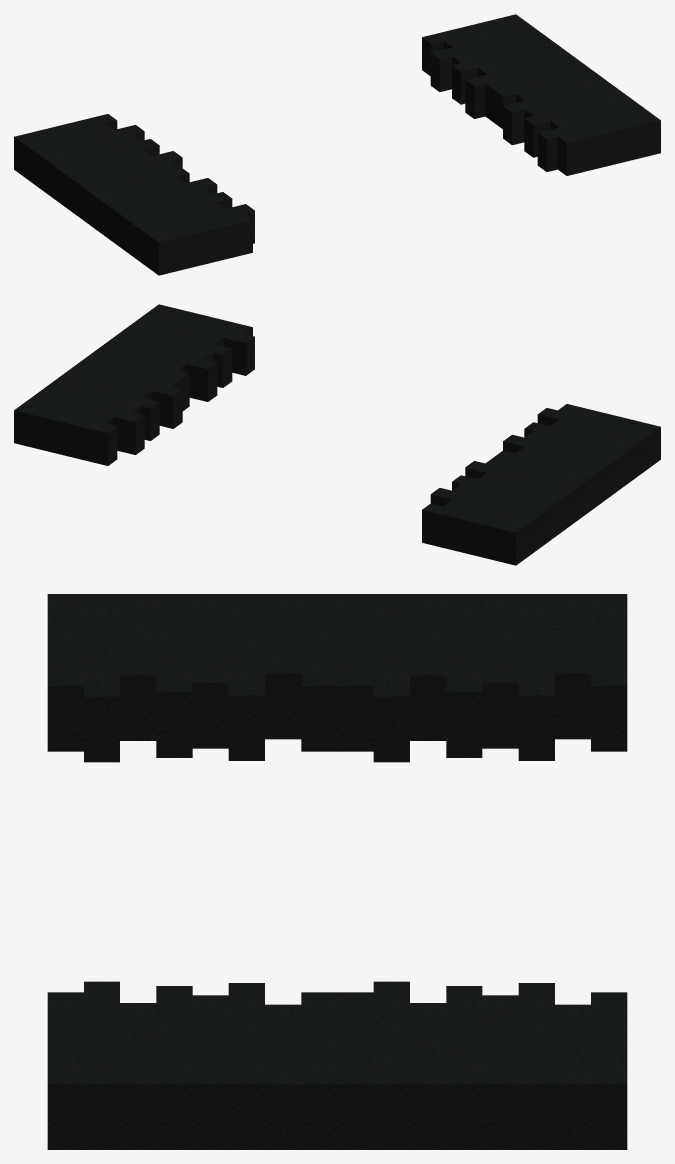
Rendered from corrugated_window-heavy-collision.obj.
The picture shows the model from 3 angles, top to bottom: view 1: azimuth 30°, elevation 25°; view 2: azimuth 150°, elevation 25°; view 3: azimuth 270°, elevation 25°; orthographic projection. The views are drawn at different scales.
Visible parts, largest first — view 1: corrugated_window.Heavy.proxy31, corrugated_window.Heavy.proxy30, corrugated_window.Heavy.proxy5, corrugated_window.Heavy.proxy21, corrugated_window.Heavy.proxy13, corrugated_window.Heavy.proxy29, corrugated_window.Heavy.proxy9, corrugated_window.Heavy.proxy25, corrugated_window.Heavy.proxy28, corrugated_window.Heavy.proxy24, corrugated_window.Heavy.proxy8, corrugated_window.Heavy.proxy12 (+20 smaller); view 2: corrugated_window.Heavy.proxy1, corrugated_window.Heavy.proxy0, corrugated_window.Heavy.proxy21, corrugated_window.Heavy.proxy5, corrugated_window.Heavy.proxy13, corrugated_window.Heavy.proxy29, corrugated_window.Heavy.proxy25, corrugated_window.Heavy.proxy9, corrugated_window.Heavy.proxy12, corrugated_window.Heavy.proxy4, corrugated_window.Heavy.proxy20, corrugated_window.Heavy.proxy28 (+20 smaller); view 3: corrugated_window.Heavy.proxy12, corrugated_window.Heavy.proxy13, corrugated_window.Heavy.proxy4, corrugated_window.Heavy.proxy5, corrugated_window.Heavy.proxy20, corrugated_window.Heavy.proxy21, corrugated_window.Heavy.proxy28, corrugated_window.Heavy.proxy29, corrugated_window.Heavy.proxy8, corrugated_window.Heavy.proxy9, corrugated_window.Heavy.proxy24, corrugated_window.Heavy.proxy25 (+20 smaller).
Boxes of the visible parts, left/top/right/bottom form: corrugated_window.Heavy.proxy31: left=557, top=114, right=660, bottom=175; corrugated_window.Heavy.proxy30: left=150, top=213, right=252, bottom=275; corrugated_window.Heavy.proxy5: left=430, top=27, right=542, bottom=91; corrugated_window.Heavy.proxy21: left=503, top=80, right=615, bottom=145; corrugated_window.Heavy.proxy13: left=465, top=54, right=578, bottom=118; corrugated_window.Heavy.proxy29: left=537, top=107, right=651, bottom=171; corrugated_window.Heavy.proxy9: left=452, top=41, right=560, bottom=104; corrugated_window.Heavy.proxy25: left=524, top=94, right=633, bottom=157; corrugated_window.Heavy.proxy28: left=140, top=204, right=254, bottom=268; corrugated_window.Heavy.proxy24: left=122, top=192, right=232, bottom=255; corrugated_window.Heavy.proxy8: left=50, top=139, right=159, bottom=202; corrugated_window.Heavy.proxy12: left=68, top=151, right=182, bottom=215; corrugated_window.Heavy.proxy1: left=14, top=404, right=117, bottom=465; corrugated_window.Heavy.proxy0: left=422, top=503, right=524, bottom=565; corrugated_window.Heavy.proxy21: left=105, top=337, right=217, bottom=401; corrugated_window.Heavy.proxy5: left=32, top=390, right=144, bottom=454; corrugated_window.Heavy.proxy13: left=68, top=364, right=182, bottom=428; corrugated_window.Heavy.proxy29: left=141, top=311, right=254, bottom=375; corrugated_window.Heavy.proxy25: left=123, top=324, right=232, bottom=387; corrugated_window.Heavy.proxy9: left=50, top=377, right=159, bottom=440; corrugated_window.Heavy.proxy12: left=465, top=461, right=579, bottom=525; corrugated_window.Heavy.proxy4: left=430, top=488, right=543, bottom=551; corrugated_window.Heavy.proxy20: left=503, top=434, right=615, bottom=498; corrugated_window.Heavy.proxy28: left=537, top=408, right=651, bottom=472; corrugated_window.Heavy.proxy12: left=373, top=594, right=409, bottom=762; corrugated_window.Heavy.proxy13: left=373, top=981, right=409, bottom=1149; corrugated_window.Heavy.proxy4: left=518, top=594, right=554, bottom=760; corrugated_window.Heavy.proxy5: left=518, top=983, right=554, bottom=1149; corrugated_window.Heavy.proxy20: left=228, top=594, right=264, bottom=760; corrugated_window.Heavy.proxy21: left=228, top=983, right=264, bottom=1149; corrugated_window.Heavy.proxy28: left=84, top=594, right=119, bottom=762; corrugated_window.Heavy.proxy29: left=84, top=981, right=119, bottom=1149; corrugated_window.Heavy.proxy8: left=446, top=594, right=482, bottom=757; corrugated_window.Heavy.proxy9: left=446, top=986, right=482, bottom=1149; corrugated_window.Heavy.proxy24: left=156, top=594, right=192, bottom=757; corrugated_window.Heavy.proxy25: left=156, top=986, right=192, bottom=1149.
Size of the model in its own units: 16 by 1 by 8.
1 material, 1 textured.
